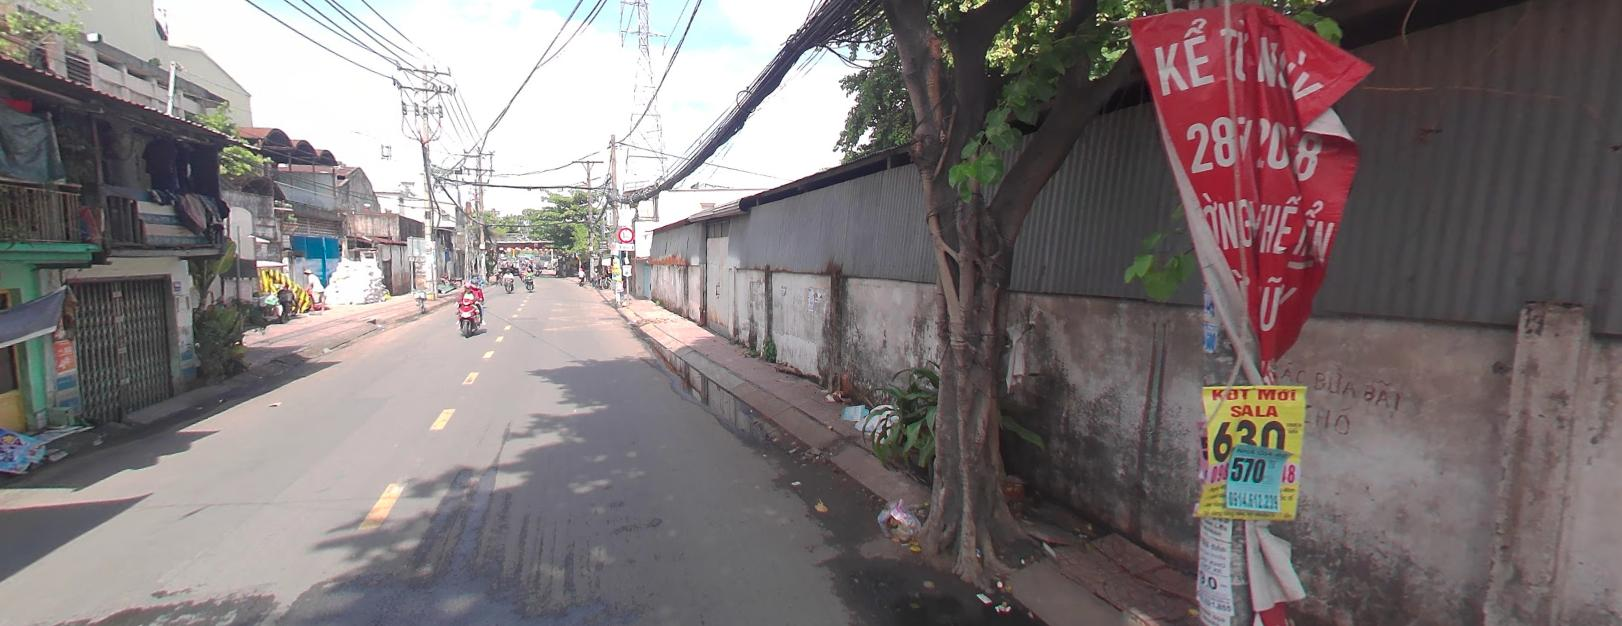Cam con lai: (618, 225, 634, 240)
